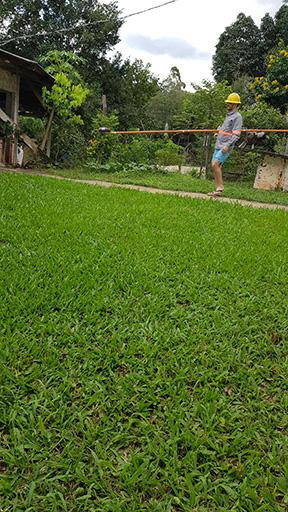Detector_Tensao_Contato: (95, 126, 113, 135)
Vara_Manobra: (110, 127, 288, 136)
